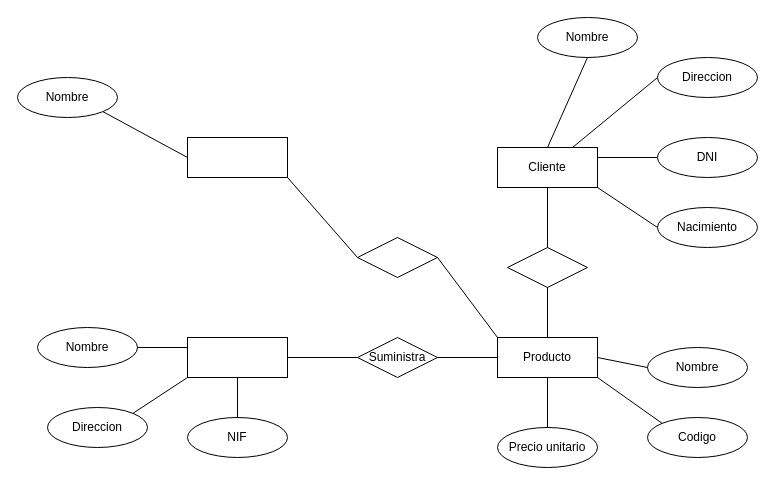
Some shapes in this 775 by 485 pixel diagram are drawn without their labels. The centre of each missing label's shape, as x and y in pixels:
Compra: (x=547, y=267)
Empresa: (x=237, y=157)
Proveedor: (x=237, y=357)
Vende: (x=397, y=257)
